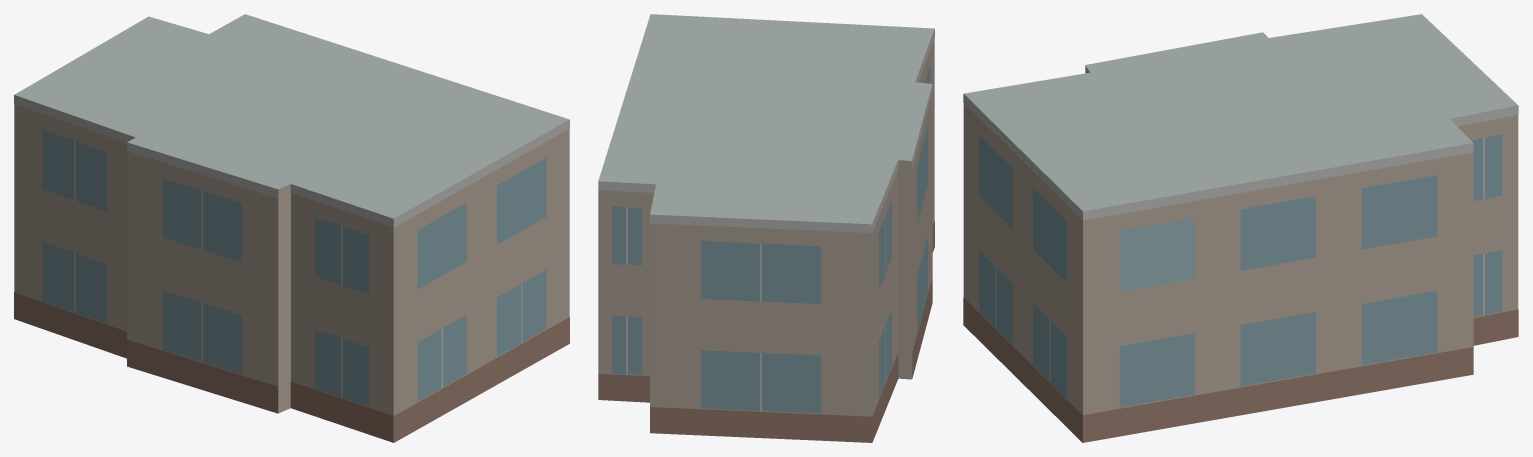
File: survey-upis-32940734.glb
3 renders of one model, left to right at view 1: azimuth 30°, elevation 25°; view 2: azimuth 150°, elevation 25°; view 3: azimuth 270°, elevation 25°, orthographic. The views are drawn at different scales.
Visible parts, largest first — view 1: survey-upis-32940734.tmp; view 2: survey-upis-32940734.tmp; view 3: survey-upis-32940734.tmp.
Boxes of the visible parts, x1,y1,x2,y2 form: survey-upis-32940734.tmp: (14, 14, 569, 442); survey-upis-32940734.tmp: (598, 14, 934, 442); survey-upis-32940734.tmp: (963, 14, 1518, 442).
Size of the model in its own units: 11.16 by 6.1 by 13.26.
